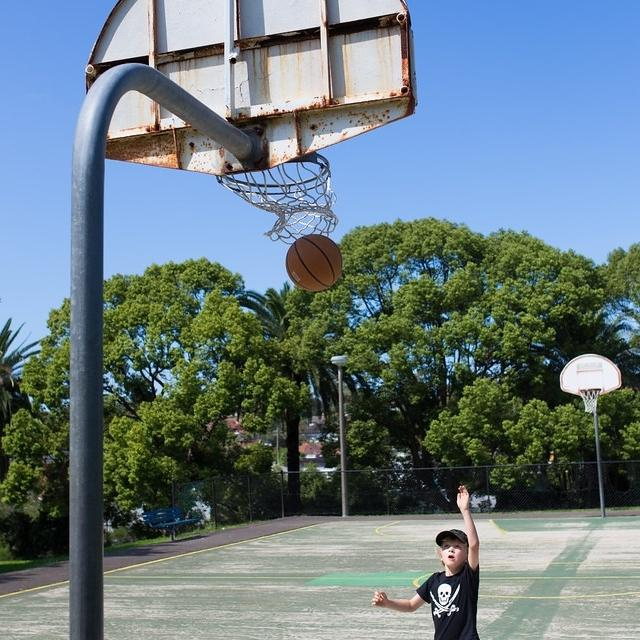basketball: (287, 235, 342, 291)
hoop: (220, 168, 350, 239), (575, 385, 602, 419)
